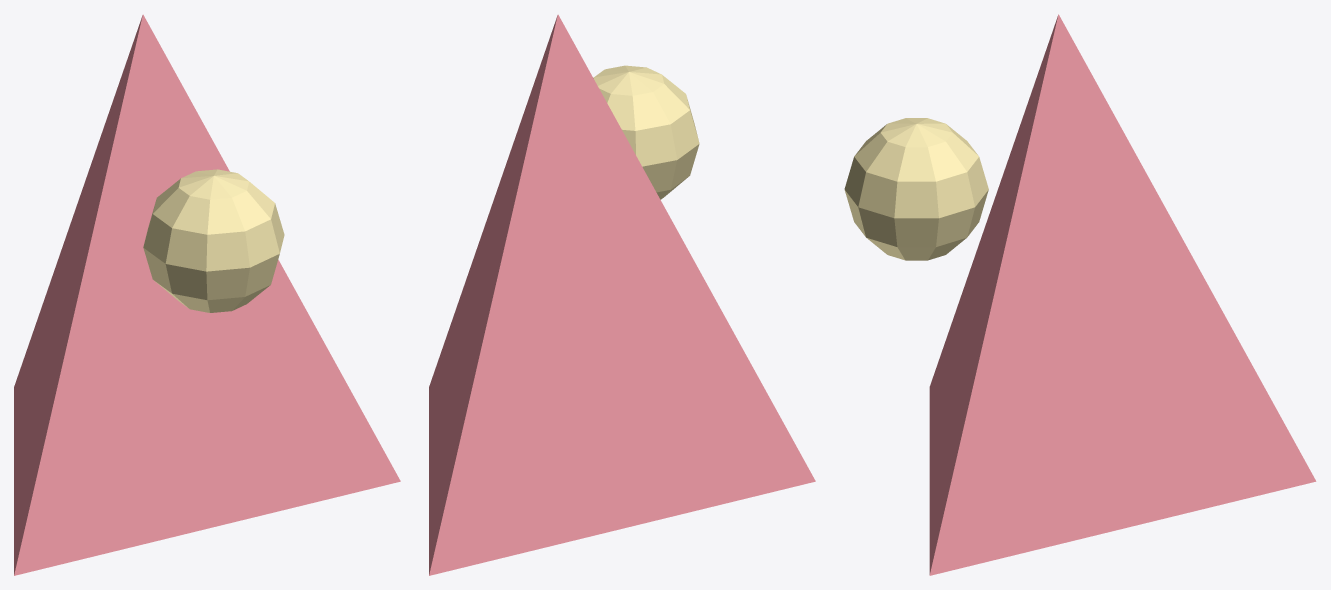
The model's file is SM_Runner.fbx.
3 views of the same model, side by side, from view 1: azimuth 30°, elevation 25°; view 2: azimuth 150°, elevation 25°; view 3: azimuth 270°, elevation 25° (orthographic).
Visible parts, largest first — view 1: SM_Runner; view 2: SM_Runner; view 3: SM_Runner.
Boxes of the visible parts, <box> form: SM_Runner: <box>14,14,400,575</box>; SM_Runner: <box>429,14,815,575</box>; SM_Runner: <box>844,14,1316,575</box>.
Bounding box in the file's own units: 0.3118 × 0.36 × 0.3294.
